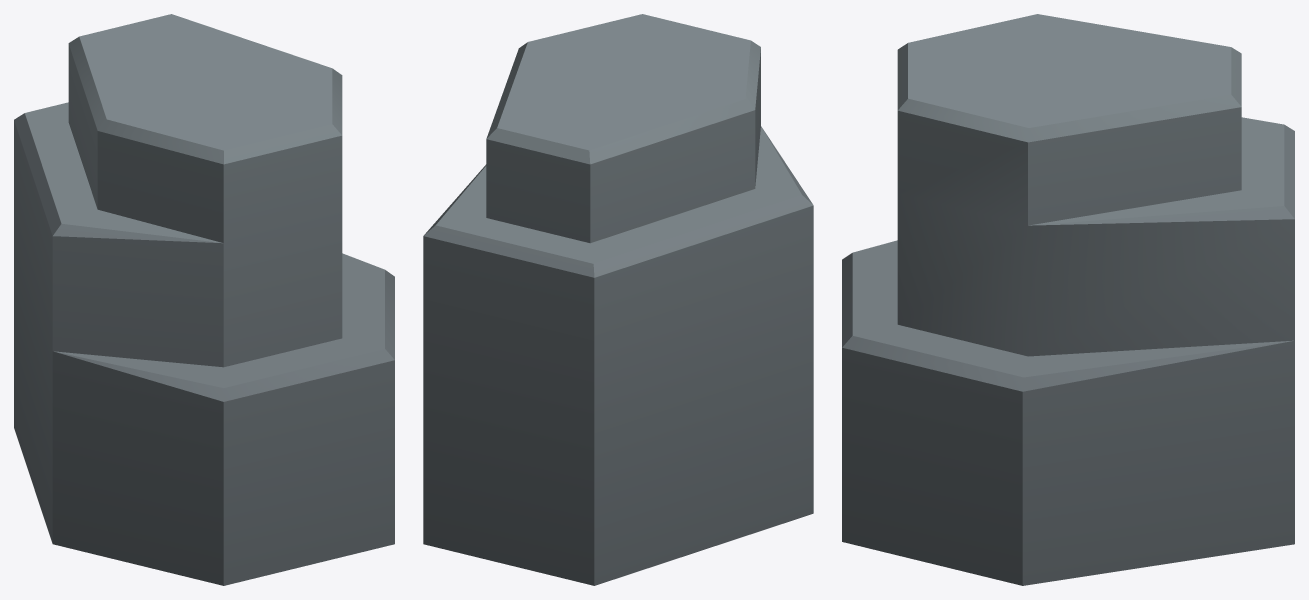
Rendered from kk-rock.glb.
The picture shows the model from 3 angles, left to right: view 1: azimuth 30°, elevation 25°; view 2: azimuth 150°, elevation 25°; view 3: azimuth 270°, elevation 25°; orthographic projection. The views are drawn at different scales.
Parts seen in each view (by area): view 1: Rock_1_E_Color1; view 2: Rock_1_E_Color1; view 3: Rock_1_E_Color1.
Boxes of the visible parts, box(x1,y1,x2,y2) form: Rock_1_E_Color1: box(14, 14, 394, 585); Rock_1_E_Color1: box(423, 14, 813, 585); Rock_1_E_Color1: box(842, 14, 1294, 585).
Size of the model in its own units: 1 by 1.13 by 1.09.
1 material, 1 textured.
